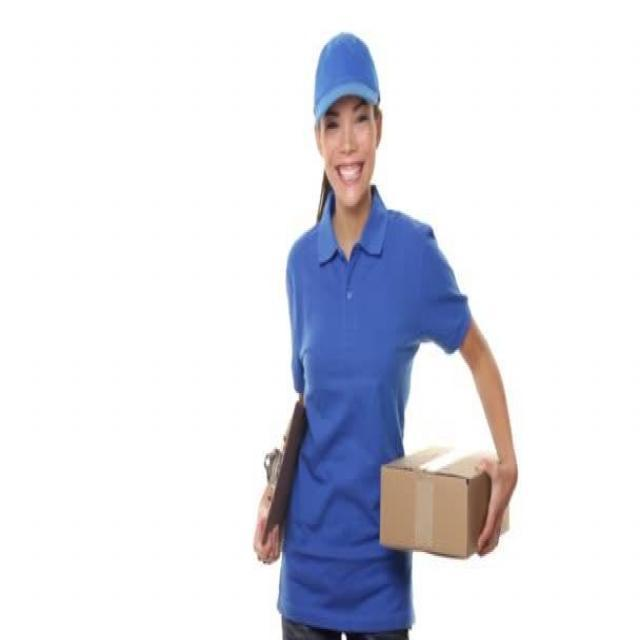box: (378, 432, 508, 560)
